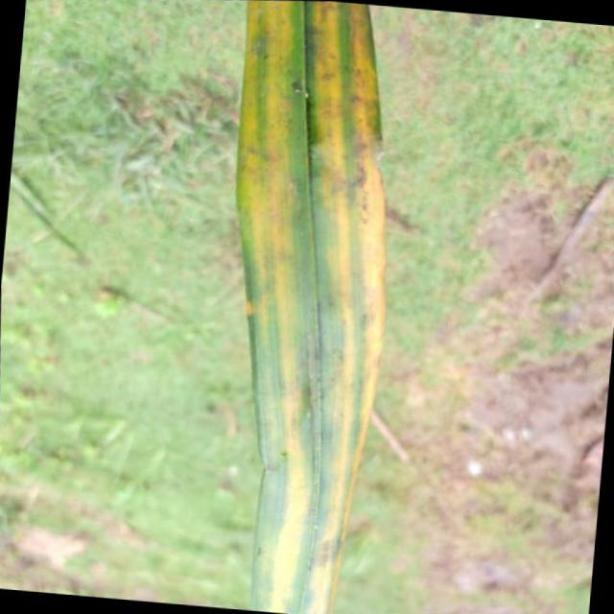Megnesium: (232, 0, 388, 614)
